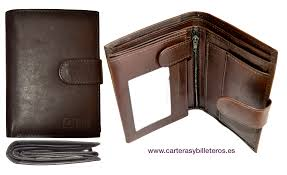monedero: (105, 11, 279, 153), (5, 8, 103, 138), (6, 142, 101, 165)
